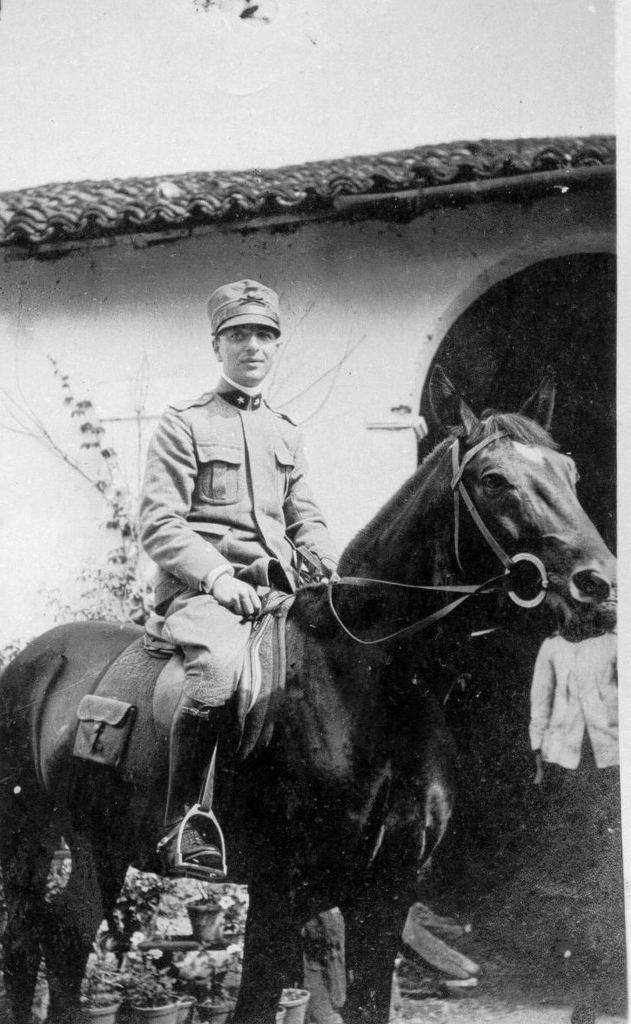face: (221, 304, 278, 385)
